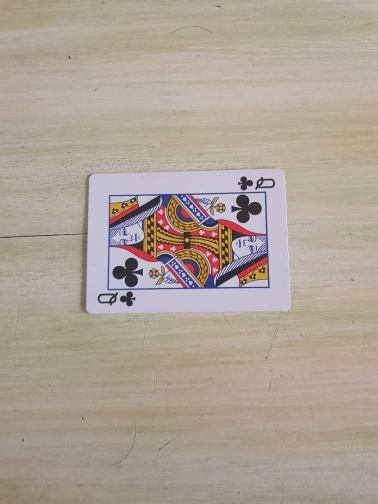queen: (84, 168, 291, 316)
